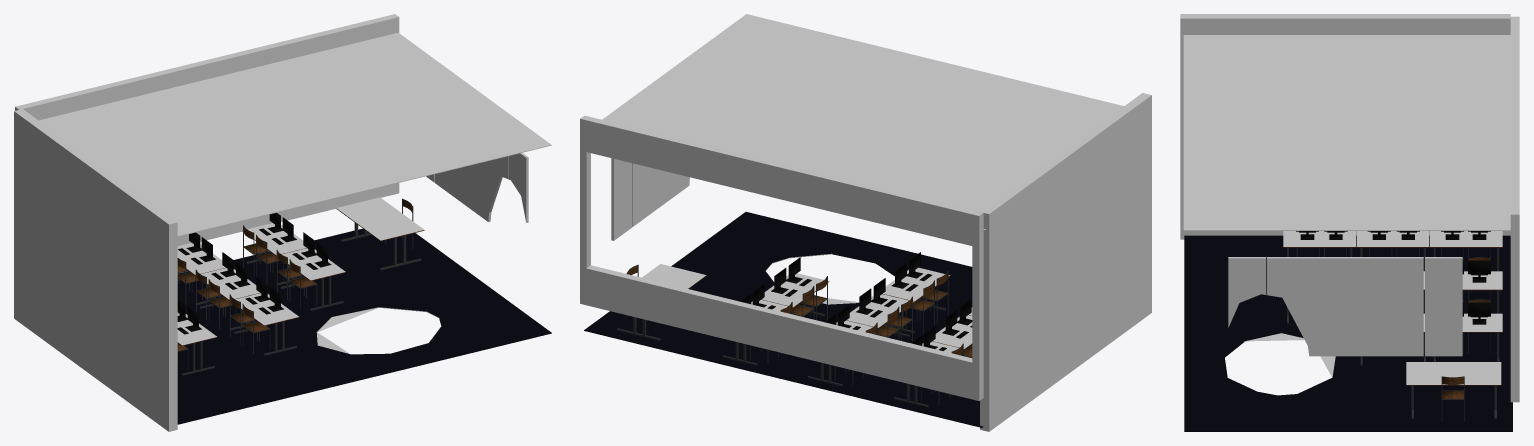
Rendered from salle_classe_haut08.obj.
3 renders of one model, left to right at view 1: azimuth 30°, elevation 25°; view 2: azimuth 150°, elevation 25°; view 3: azimuth 270°, elevation 25°, orthographic. The views are drawn at different scales.
Visible parts, largest first — view 1: plafond_classe.022; view 2: plafond_classe.022; view 3: plafond_classe.022.
Boxes of the visible parts, box(x1,y1,x2,y2) form: plafond_classe.022: box(14, 14, 551, 431); plafond_classe.022: box(580, 14, 1151, 431); plafond_classe.022: box(1180, 14, 1519, 431).
Bounding box in the file's own units: 21.89 × 11.26 × 15.66.
Materials: 6 (3 with a texture image).
